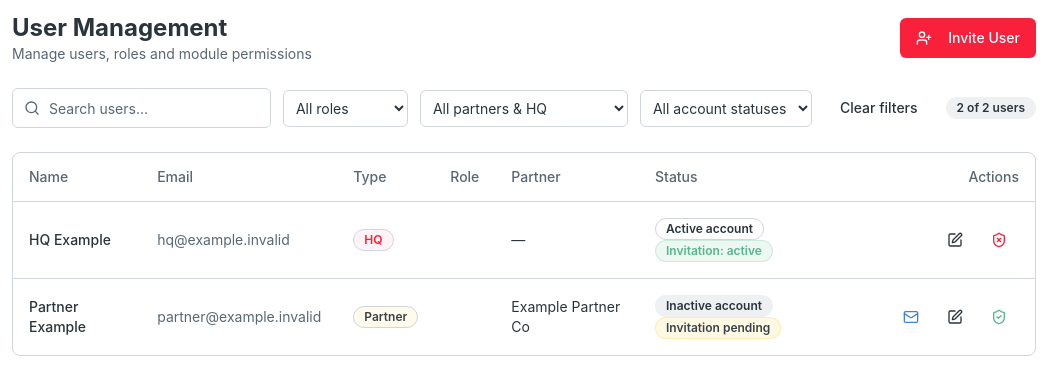
Scenario: User directory filters › combines filters and clears them without changing accounts
The image size is (1048, 373).
Select "partner sales" in the dropdown named "Filter by role": (345, 108) [283,90,408,126]
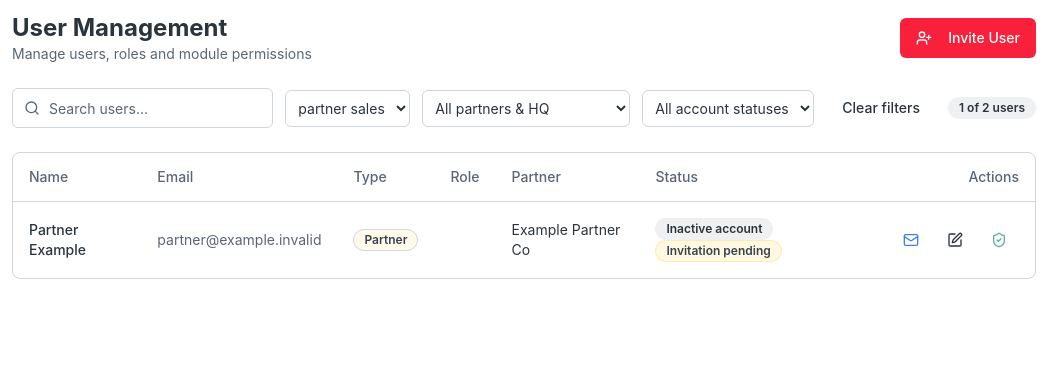
Check: the text "Partner Example" is shown, box [13,201,141,278]
Check: the text "HQ Example" is gone
Select "Active accounts" in the dropdown named "Filter by account status": (728, 108) [642,90,814,126]
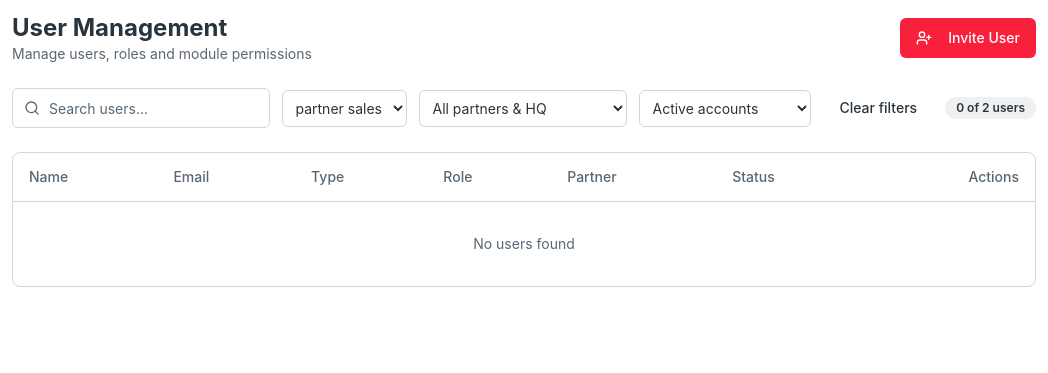
Check: the text "No users found" is shown, box [13,201,1035,286]
Click the button "Clear filters": (878, 108) [824,88,933,128]
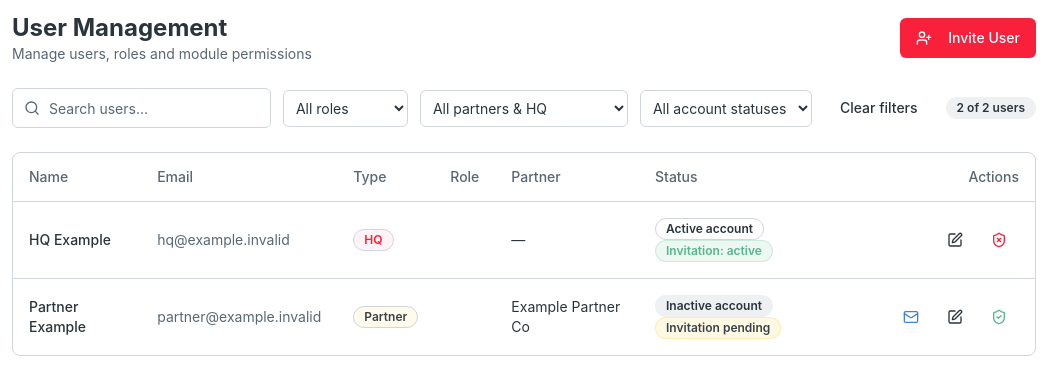
Check: the text "HQ Example" is shown, box [13,201,141,278]
